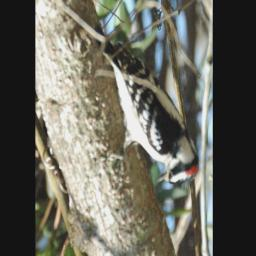Woodpecker: (102, 39, 199, 186)
